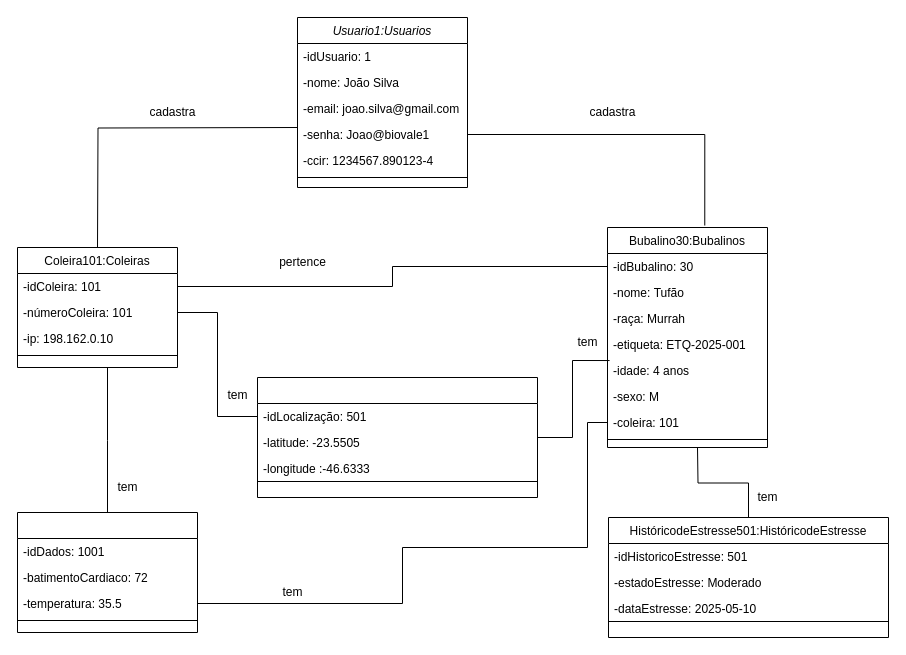
This 906x655 diagram has some shape labels left out. Here are the shapes that lost their labels. From the top down, the box of each, then its label:
(256, 376, 538, 498): Localizaçao30:HistóricodeEstresse
(16, 512, 198, 632): Dado1001:Dados
